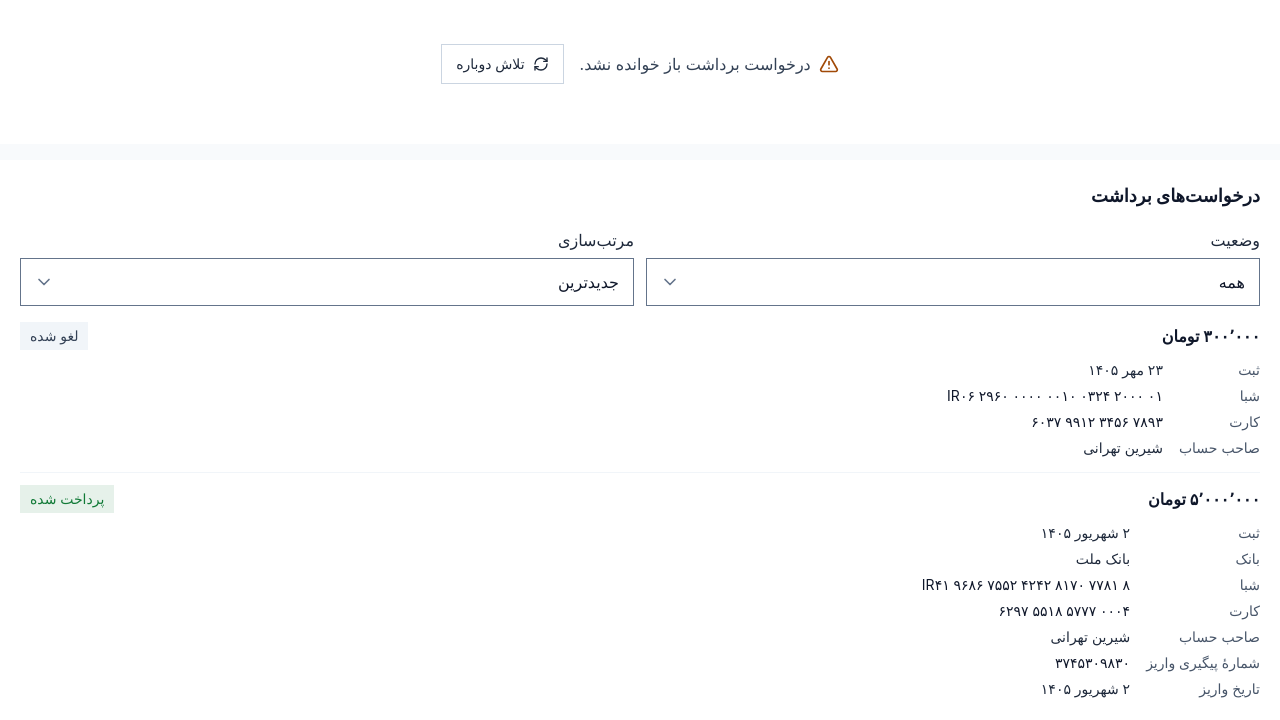
Test: the open request cannot be read › said in place with «تلاش دوباره» (no new request offered blind); the list stays
The width and height of the screenshot is (1280, 720).
Check: the text "درخواست برداشت باز خوانده نشد." is shown, box [580, 52, 839, 76]
Check: the button "درخواست برداشت جدید" is not shown
Click the button "تلاش دوباره": (502, 64) [441, 44, 564, 84]
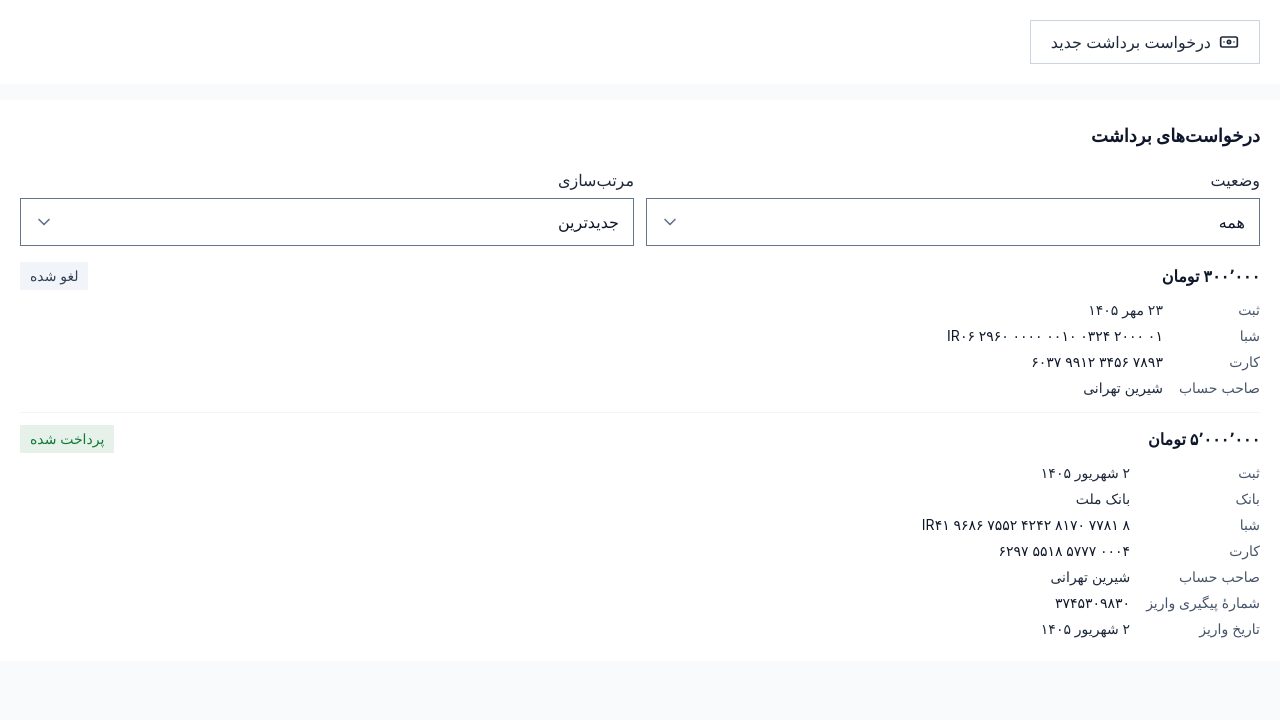
Check: the button "درخواست برداشت جدید" is shown, box [1030, 20, 1260, 64]
Check: the text "درخواست برداشت باز خوانده نشد." is gone
